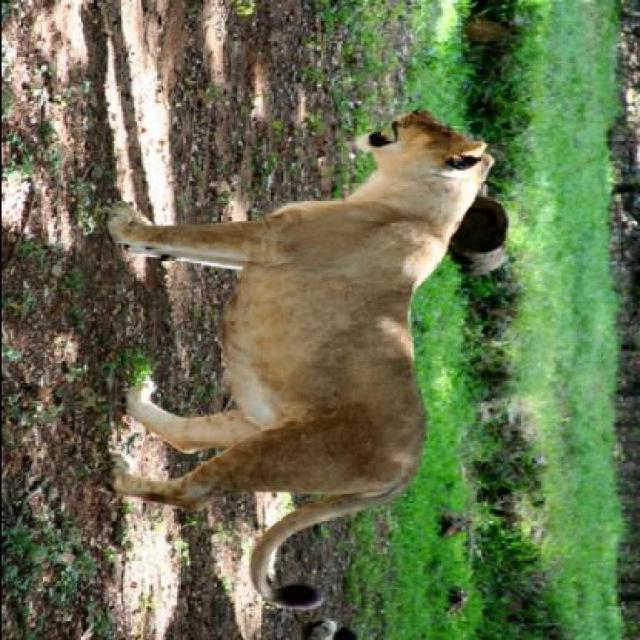Lion: (71, 110, 511, 622)
